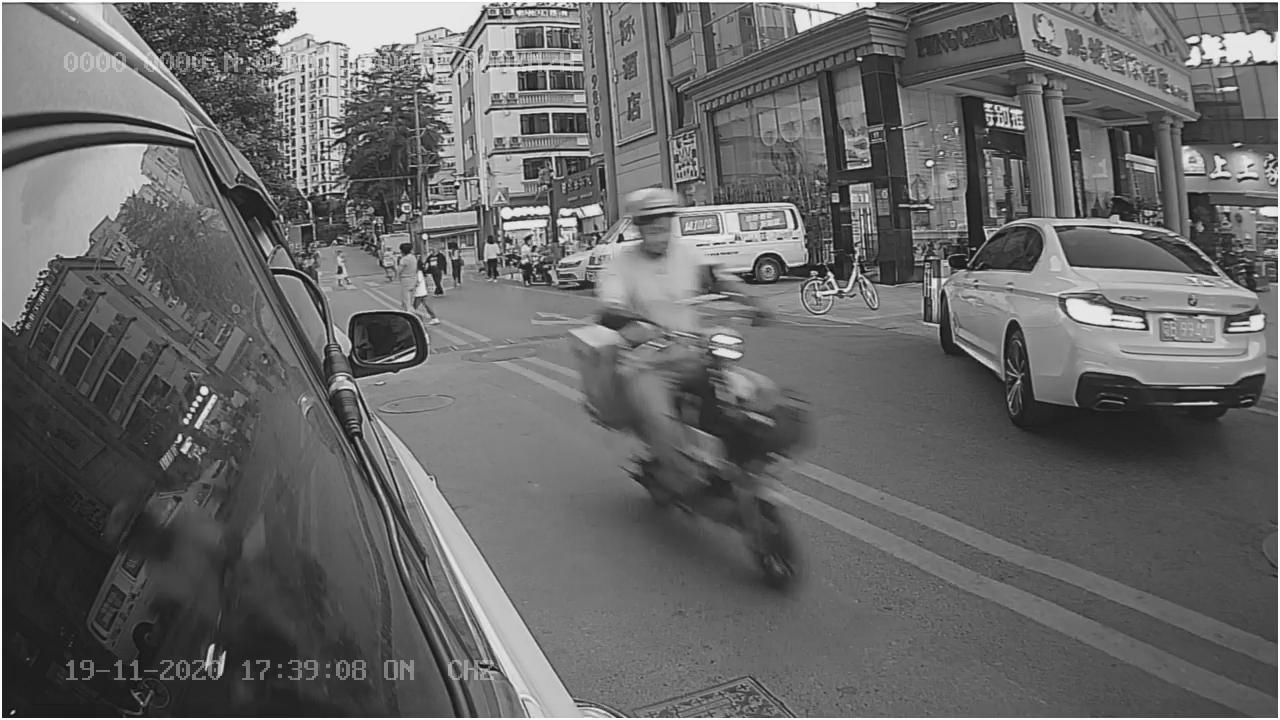person: (593, 192, 726, 358)
